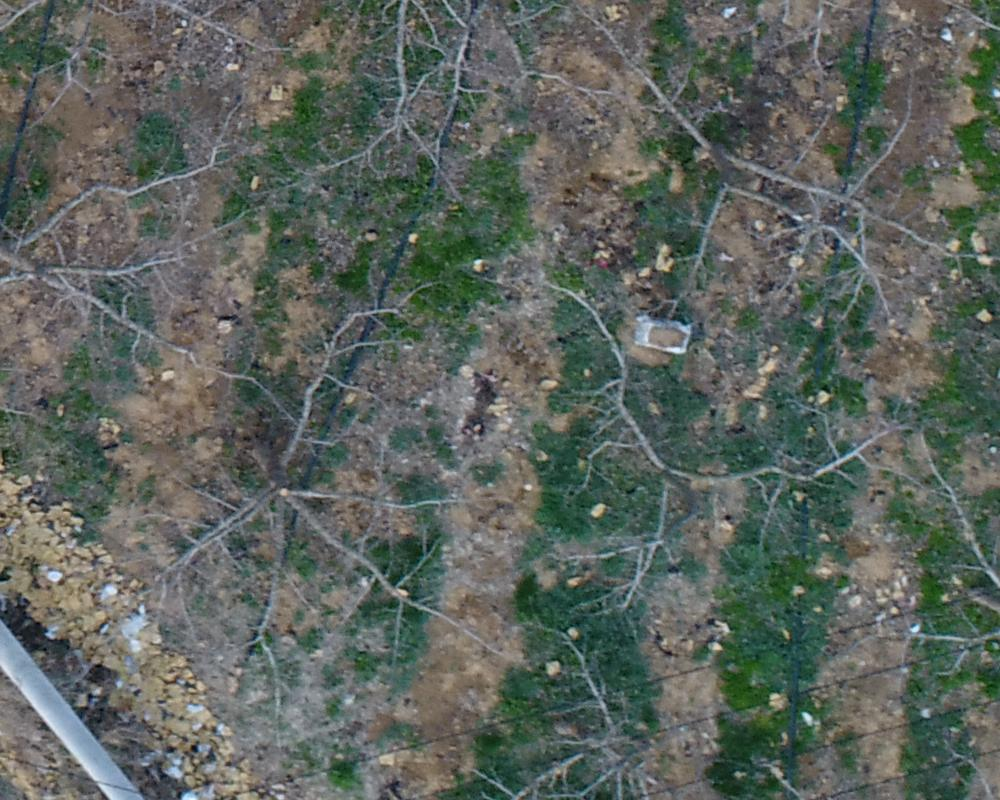apple: (558, 18, 952, 330), (171, 301, 493, 677), (536, 288, 886, 607), (10, 109, 234, 393), (450, 626, 697, 790)
